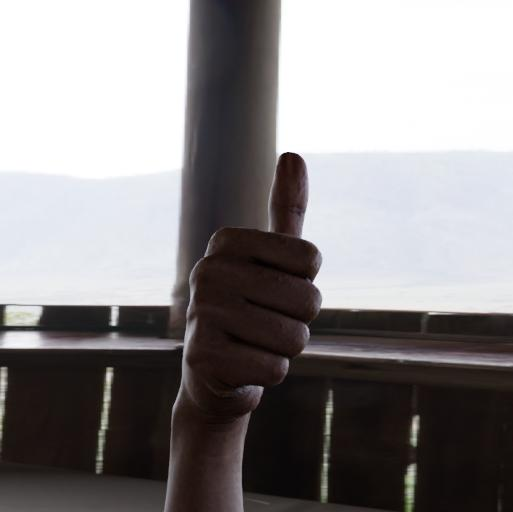thumbs-up: (176, 146, 327, 424)
